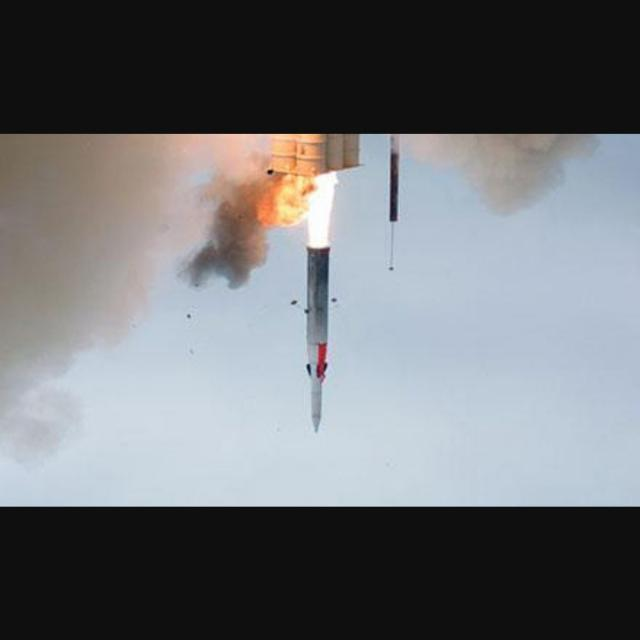missile: (302, 244, 330, 435)
